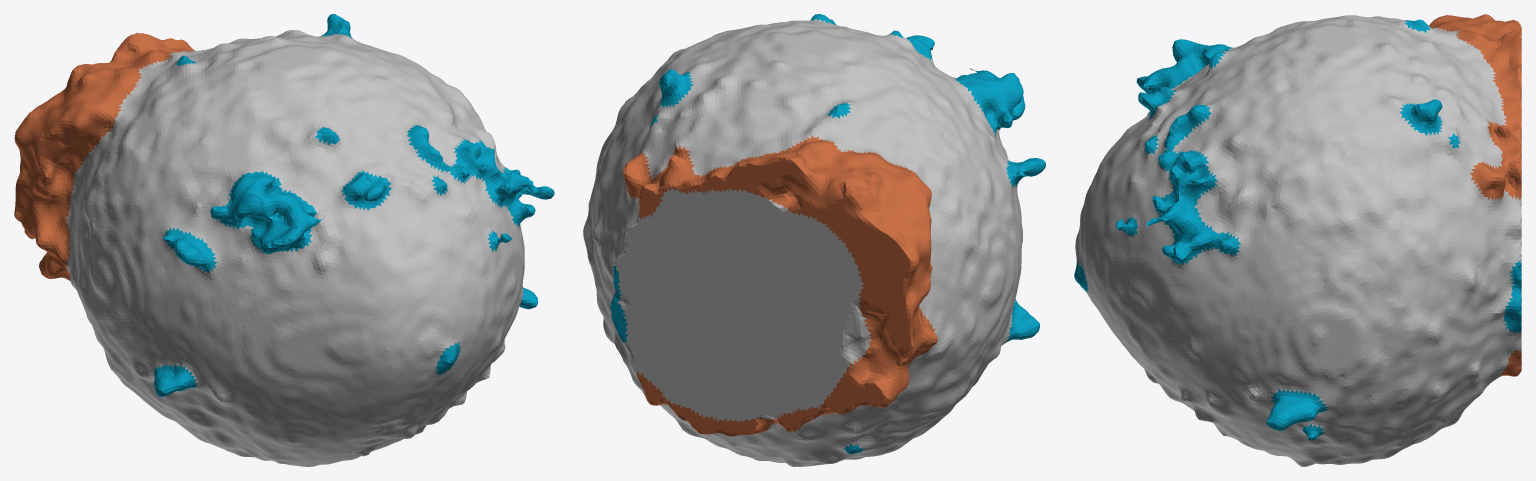
3 views of the same model, side by side, from view 1: azimuth 30°, elevation 25°; view 2: azimuth 150°, elevation 25°; view 3: azimuth 270°, elevation 25° (orthographic). The views are drawn at different scales.
Size of the model in its own units: 94.38 by 87.22 by 88.67.
